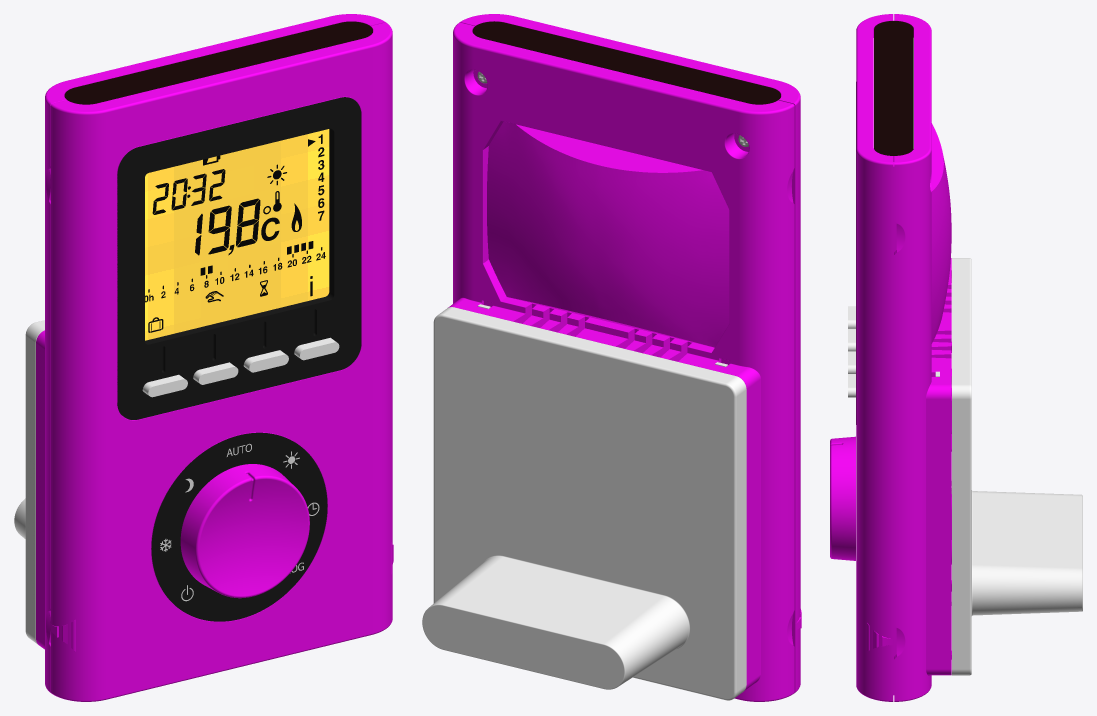
The picture shows the model from 3 angles, left to right: view 1: azimuth 30°, elevation 25°; view 2: azimuth 150°, elevation 25°; view 3: azimuth 270°, elevation 25°; orthographic projection. The views are drawn at different scales.
Parts seen in each view (by area): view 1: TTIR_obudowa, TTIR_ciemny_plastik, TTIR_lcd_tlo, TTIR_obudowa_emi, TTIR_lcd_symbols, TTIR_stopa, TTIR_przyciski; view 2: TTIR_obudowa, TTIR_stopa, TTIR_obudowa_emi; view 3: TTIR_obudowa, TTIR_stopa, TTIR_obudowa_emi, TTIR_przyciski.
Part boxes in pixels (x1,y1,x2,y2): TTIR_obudowa: [36, 14, 393, 701]; TTIR_ciemny_plastik: [117, 97, 361, 621]; TTIR_lcd_tlo: [145, 129, 329, 340]; TTIR_obudowa_emi: [64, 21, 372, 493]; TTIR_lcd_symbols: [145, 134, 325, 332]; TTIR_stopa: [14, 320, 44, 644]; TTIR_przyciski: [142, 337, 339, 397]; TTIR_obudowa: [448, 14, 801, 701]; TTIR_stopa: [422, 304, 746, 700]; TTIR_obudowa_emi: [472, 21, 780, 104]; TTIR_obudowa: [830, 14, 951, 701]; TTIR_stopa: [935, 258, 1082, 675]; TTIR_obudowa_emi: [874, 21, 913, 155]; TTIR_przyciski: [848, 306, 855, 397].
Bounding box in the file's own units: 8 × 13.4 × 5.69.
Materials: 10 (10 with a texture image).
